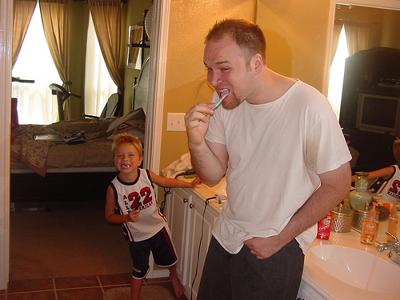person: (182, 18, 350, 298)
